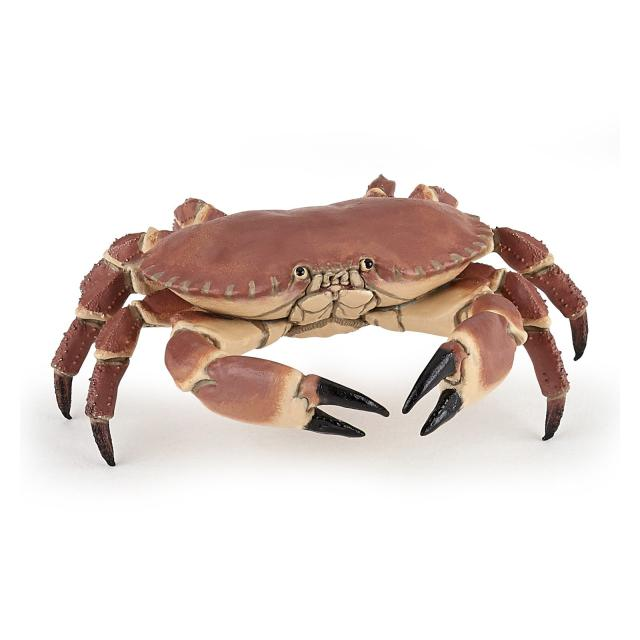crab: (113, 216, 535, 432)
